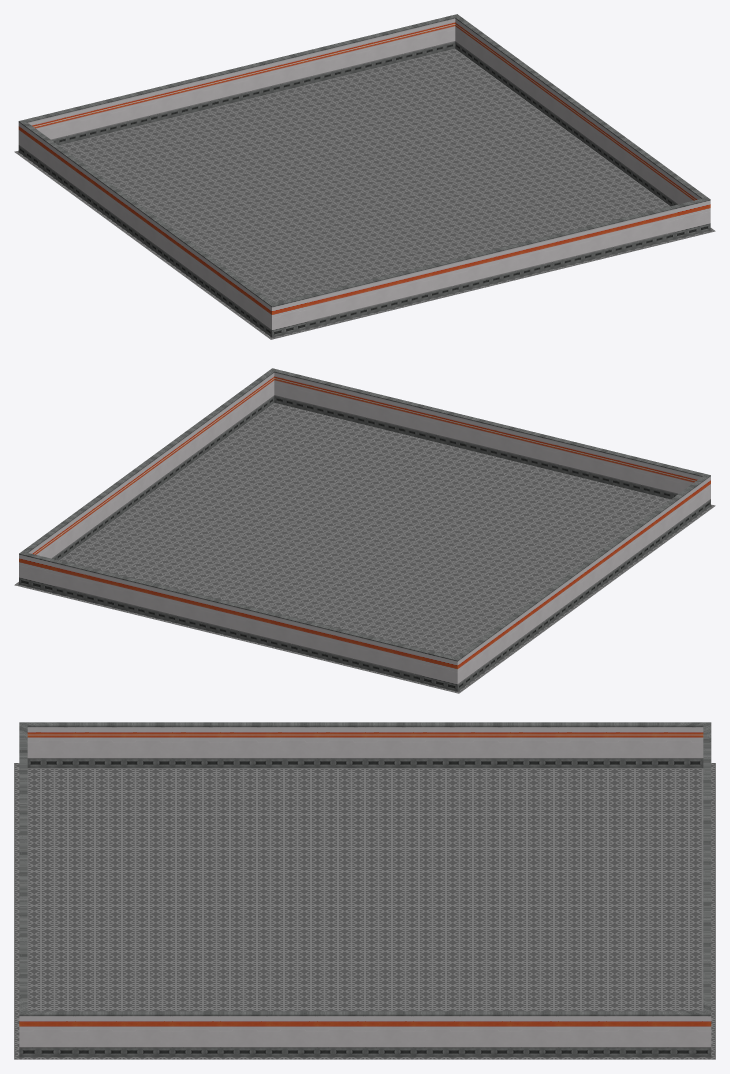
The model's file is level 1.fbx.
The picture shows the model from 3 angles, top to bottom: view 1: azimuth 30°, elevation 25°; view 2: azimuth 150°, elevation 25°; view 3: azimuth 270°, elevation 25°; orthographic projection. The views are drawn at different scales.
Parts seen in each view (by area): view 1: Level; view 2: Level; view 3: Level.
Part boxes in pixels (x1,y1,x2,y2): Level: [14, 14, 715, 339]; Level: [14, 368, 715, 693]; Level: [14, 722, 715, 1059].
Size of what is drawn, in the model's own units: 3995 by 268 by 3995.
Materials: 3 (2 with a texture image).
